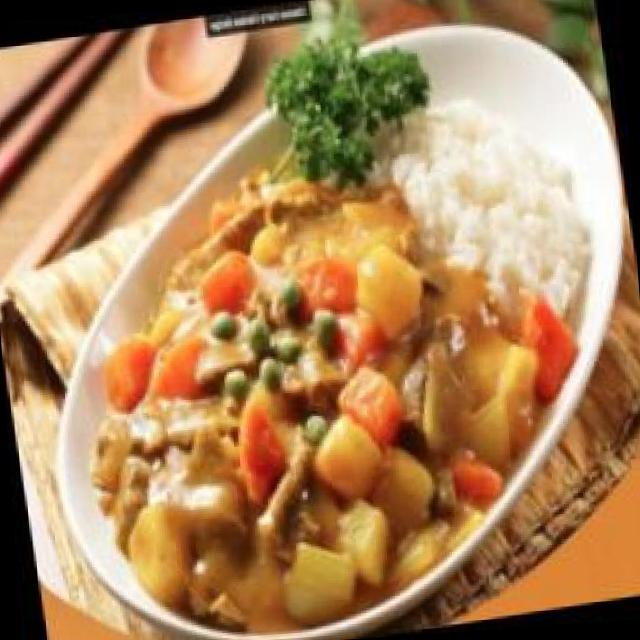curry: (44, 117, 606, 640)
rice: (406, 110, 568, 256)
